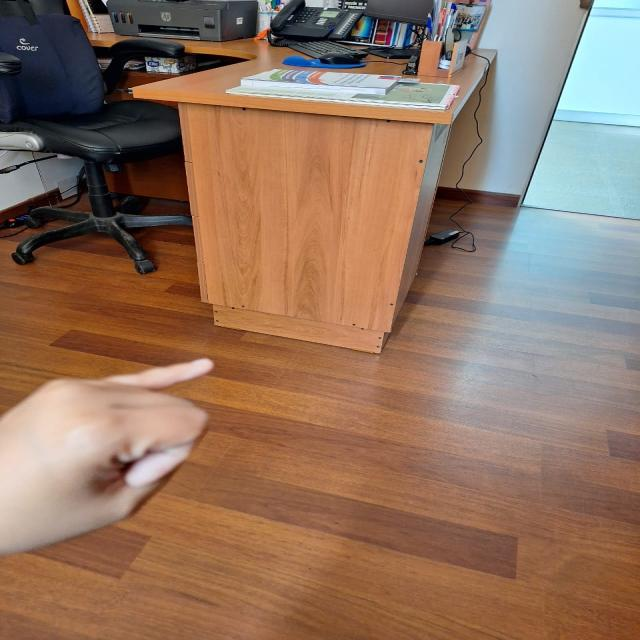Z: (0, 349, 235, 560)
